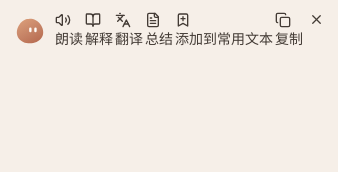
Test: failed save retains the selection and offers a retry
The image size is (338, 172).
Click the button "添加到常用文本". click: (224, 30)
box: [175,12,273,49]
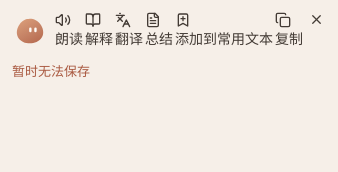
Expected: the text "暂时无法保存" is shown, [12,62,90,80]
